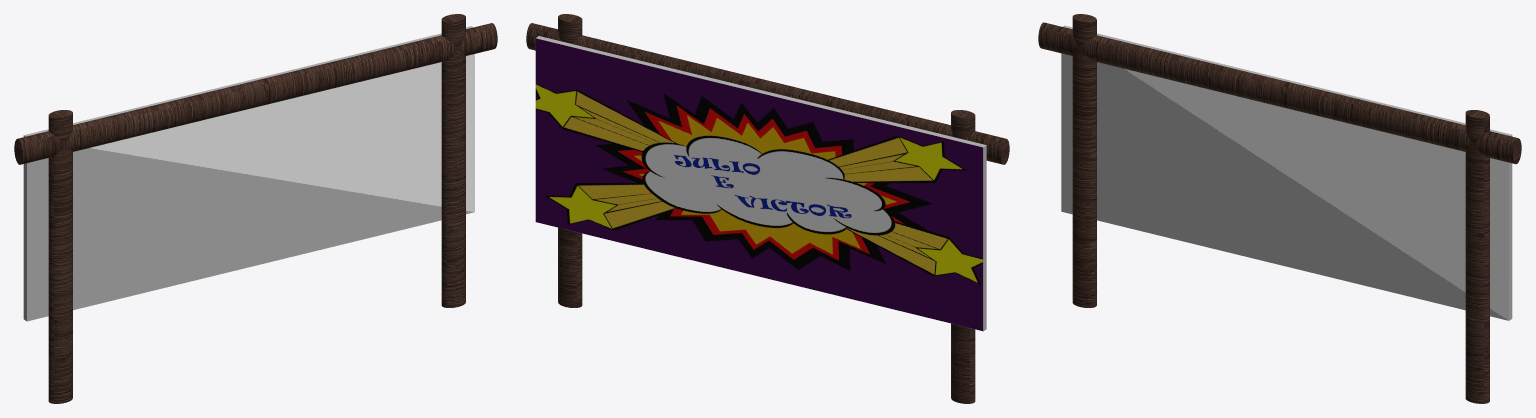
Rendered from placanome.obj.
3 renders of one model, left to right at view 1: azimuth 30°, elevation 25°; view 2: azimuth 150°, elevation 25°; view 3: azimuth 330°, elevation 25°, orthographic.
Parts seen in each view (by area): view 1: placa_pCube3; view 2: placa_pCube3; view 3: placa_pCube3.
Part boxes in pixels (bbox=[...]): placa_pCube3: bbox=[14, 14, 497, 403]; placa_pCube3: bbox=[526, 14, 1009, 403]; placa_pCube3: bbox=[1038, 14, 1521, 403].
Size of the model in its own units: 2.37 by 1.36 by 0.1101.
1 material, 1 textured.
